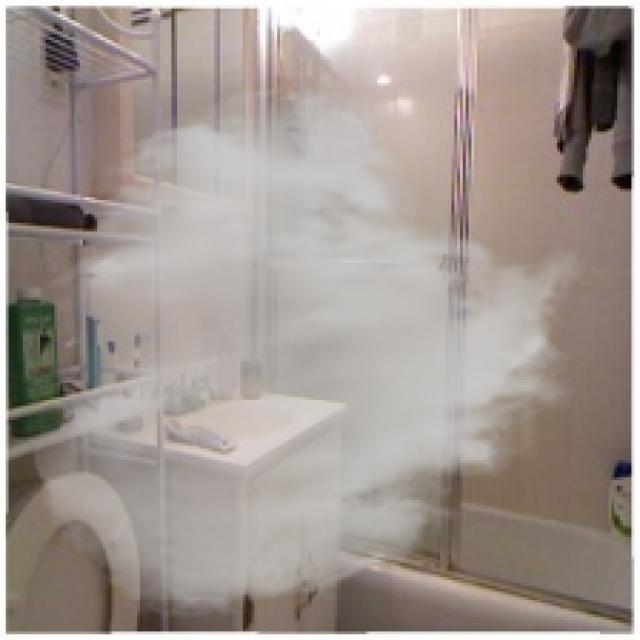Smoke: (29, 83, 588, 623)
